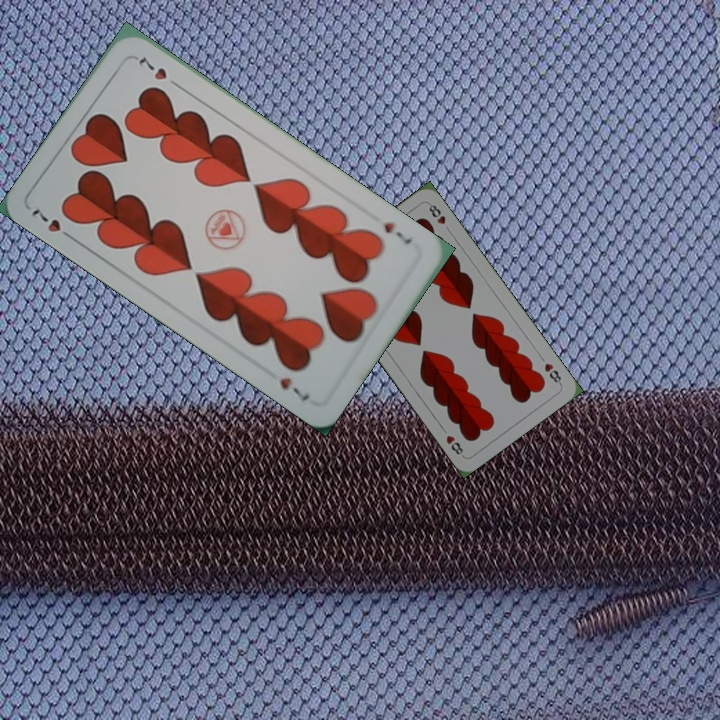H7: (27, 204, 78, 243), (379, 218, 415, 248)
H8: (540, 359, 564, 387)
